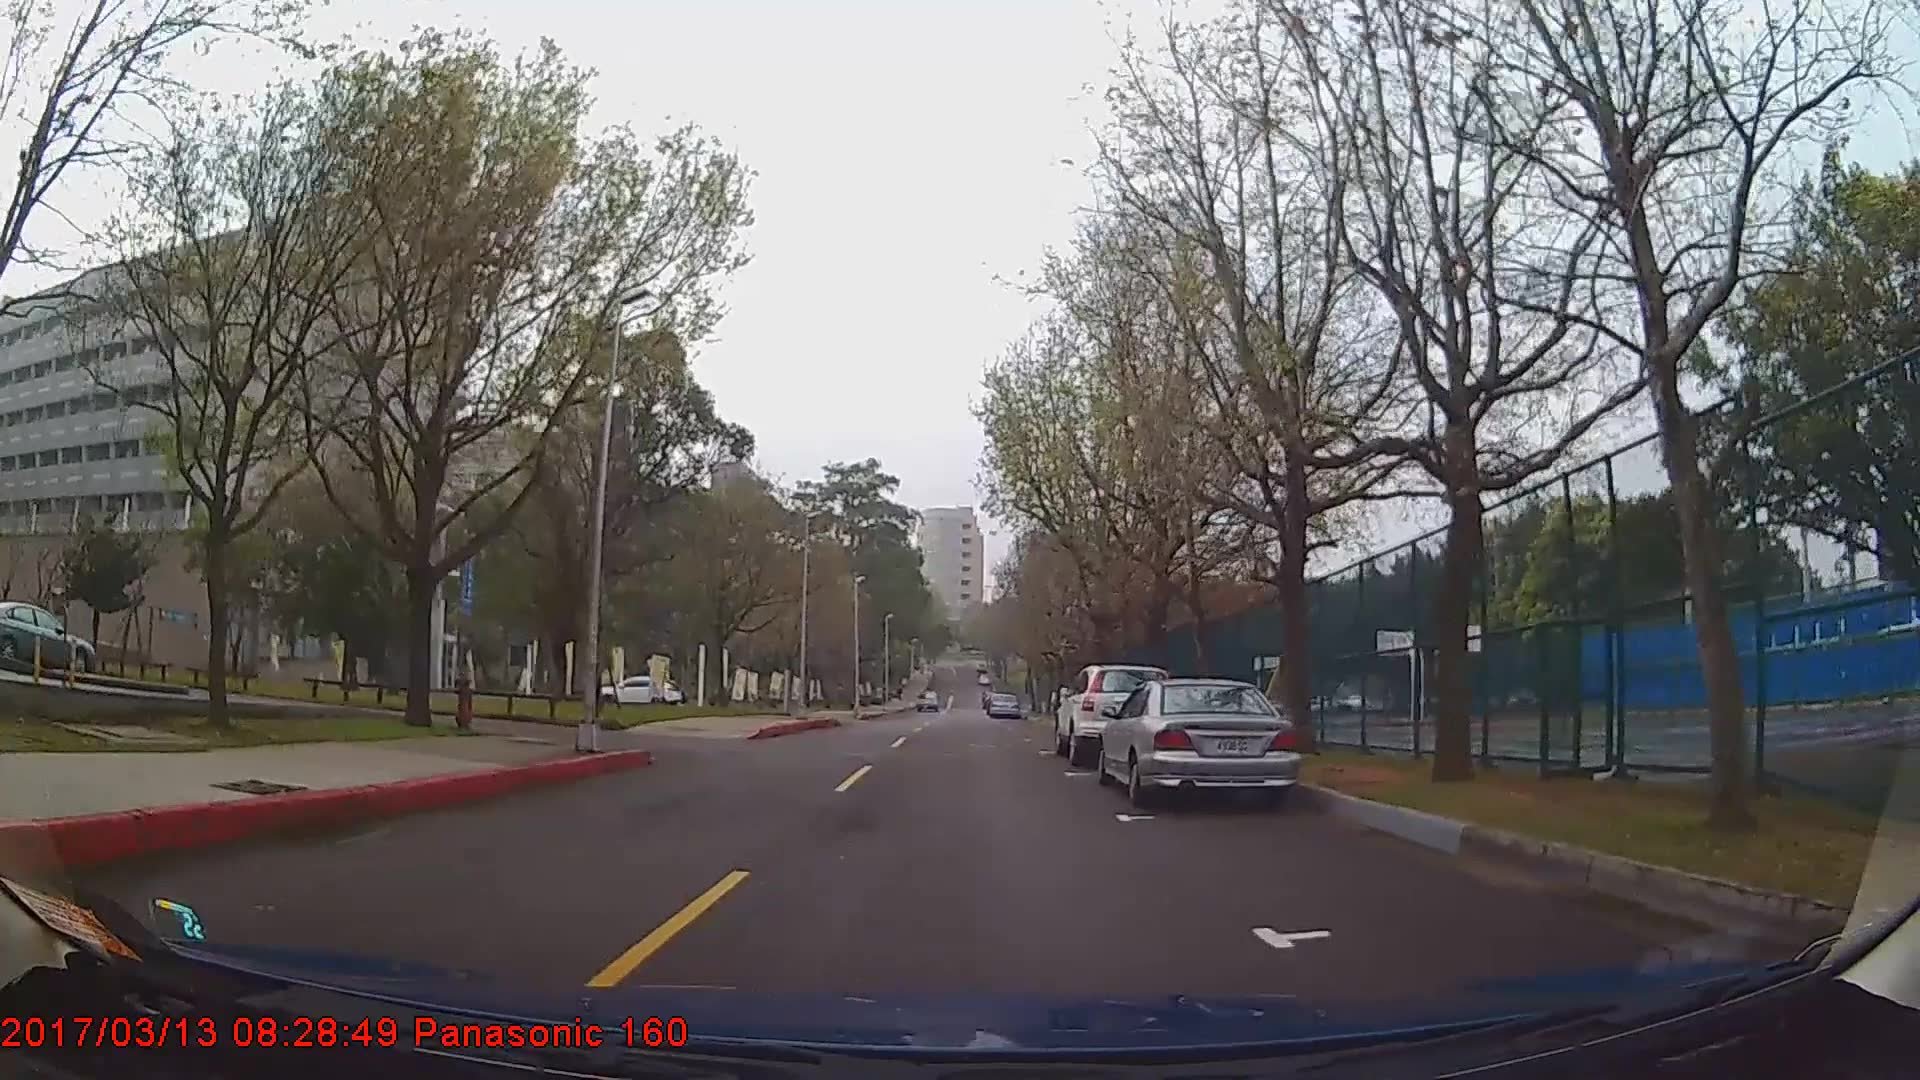vehicle: (1095, 676, 1299, 804), (1052, 665, 1167, 766), (0, 597, 92, 674), (597, 674, 684, 705), (986, 694, 1019, 719)
